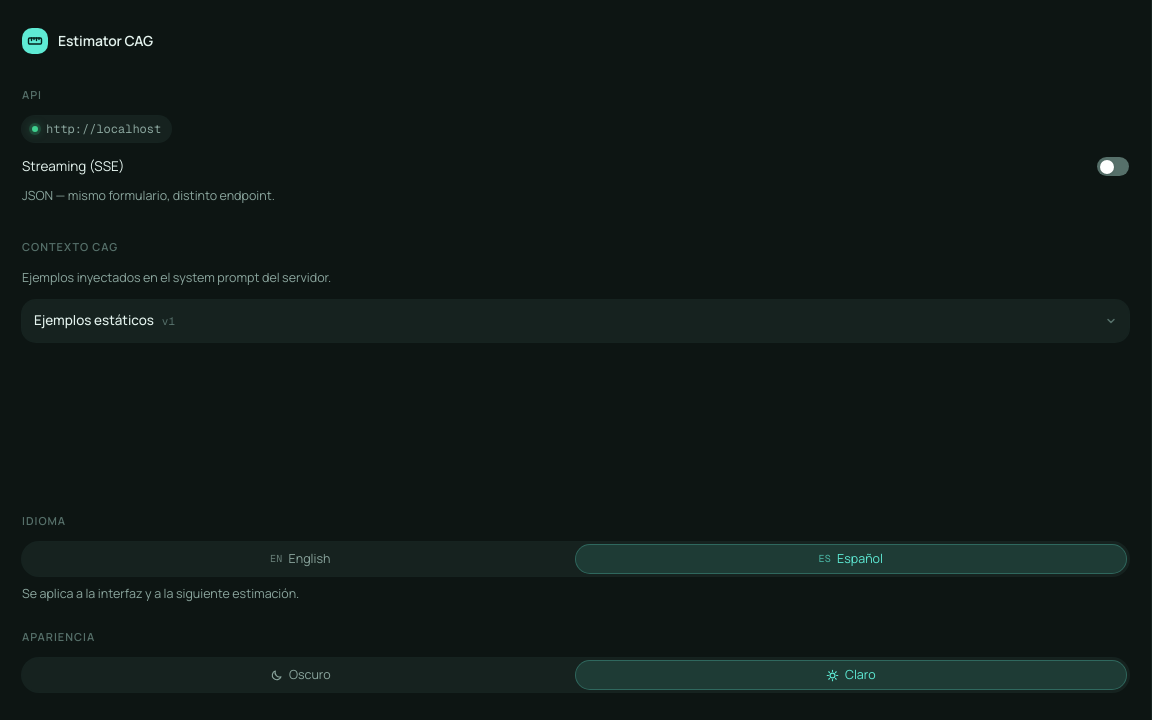
Sidebar › shows the CAG examples the server injects, with their prompt version
Click the heading "Ejemplos estáticos". click: (94, 320)
box: [34,311,1117,329]
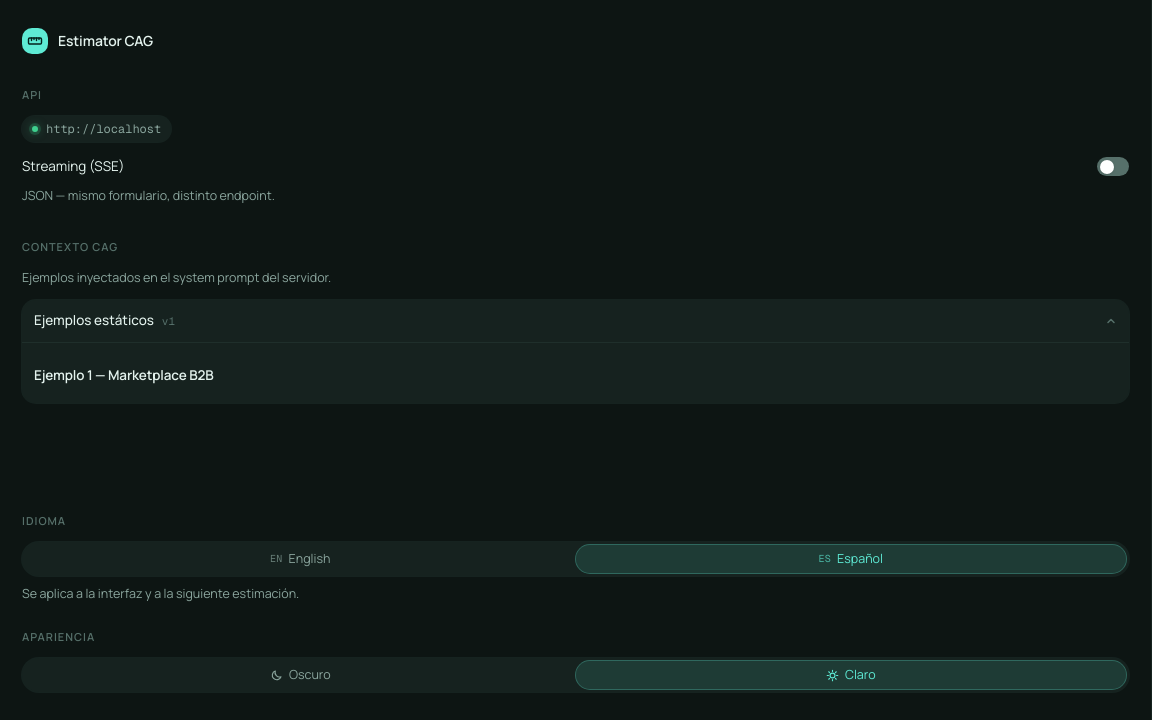
Expected: the text "v1" is shown, [162,314,175,328]
Now the heading "Ejemplo 1 — Marketplace B2B" is shown, box [34,366,214,384]
